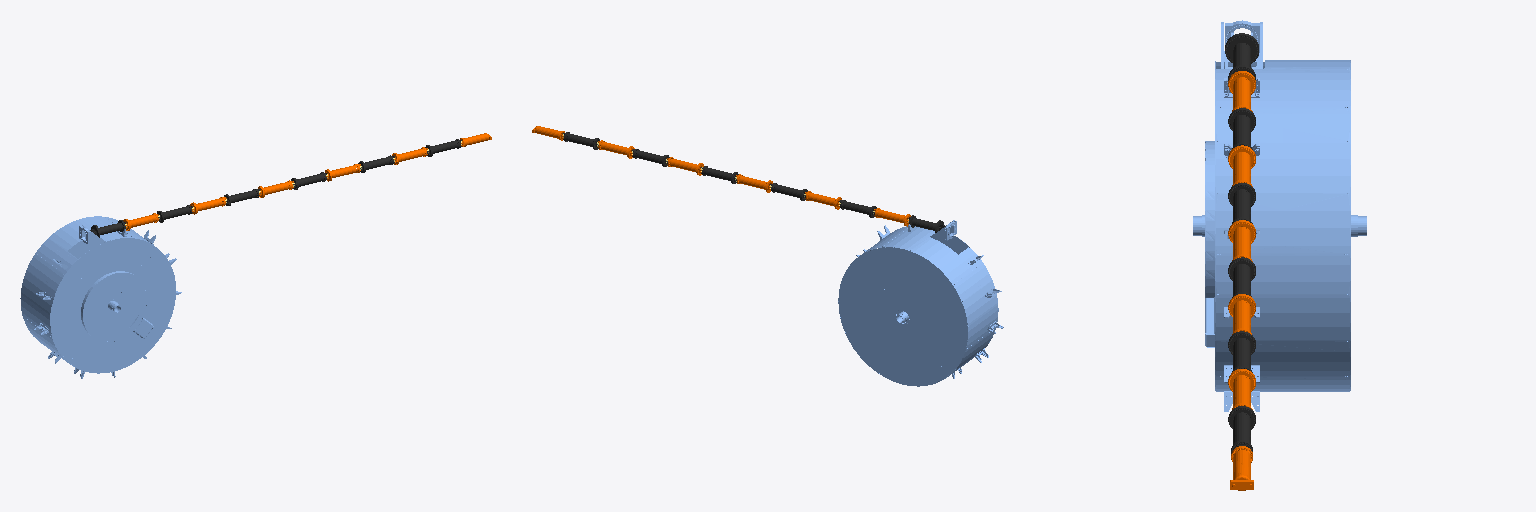
--- Render facts (derived) ---
Views: 3 orthographic renders of the robot side by side, from view 1: azimuth 30°, elevation 25°; view 2: azimuth 150°, elevation 25°; view 3: azimuth 270°, elevation 25°.
Model model_ccdhrm with 26 links and 25 joints (24 revolute, 1 fixed), rooted at base_link, posed every joint at zero.
Visible links, largest first — view 1: link_rot; view 2: link_rot; view 3: link_rot, link_1, link_21, link_23, link_7, link_17, link_3, link_9, link_5, link_11, link_19, link_15 (+1 smaller).
Link boxes in pixels (left/top/right/bottom): link_rot: left=20, top=216, right=181, bottom=378; link_rot: left=838, top=220, right=1003, bottom=386; link_rot: left=1193, top=20, right=1366, bottom=411; link_1: left=1225, top=33, right=1258, bottom=80; link_21: left=1228, top=406, right=1255, bottom=453; link_23: left=1230, top=446, right=1253, bottom=490; link_7: left=1228, top=145, right=1255, bottom=186; link_17: left=1228, top=331, right=1255, bottom=372; link_3: left=1228, top=71, right=1255, bottom=111; link_9: left=1228, top=183, right=1255, bottom=223; link_5: left=1228, top=108, right=1255, bottom=149; link_11: left=1228, top=220, right=1255, bottom=261; link_19: left=1228, top=369, right=1255, bottom=409; link_15: left=1228, top=294, right=1255, bottom=334.
Bounding box of the posed robot: 2.69 × 0.392 × 0.871 m (x, y, z).
Meshes: 6 distinct files referenced, 24 mesh visuals loaded (5 binary STL); not drawn: 1 (reference not matched to a file when rendering).

robot.urdf — model_ccdhrm:
<?xml version="1.0" encoding="utf-8"?>
<!-- This URDF was automatically created by SolidWorks to URDF Exporter! Originally created by Stephen Brawner ([email redacted]) 
     Commit Version: 1.5.1-0-g916b5db  Build Version: 1.5.7152.31018
     For more information, please see http://wiki.ros.org/sw_urdf_exporter -->
<robot
  name="model_ccdhrm">
  <link
    name="base_link">
    <inertial>
      <origin
        xyz="8.0962E-13 -0.017801 0.22145"
        rpy="0 0 0" />
      <mass
        value="2.29" />
      <inertia
        ixx="0.028299"
        ixy="-1.5621E-08"
        ixz="1.5037E-16"
        iyy="0.040957"
        iyz="4.96E-08"
        izz="0.042838" />
    </inertial>
    <visual>
      <origin
        xyz="0 0 0"
        rpy="0 0 0" />
      <geometry>
        <mesh
          filename="package://model_ccdhrm/meshes/base_link.STL" />
      </geometry>
      <material
        name="">
        <color
          rgba="1 0.47059 0 1" />
      </material>
    </visual>
    <collision>
      <origin
        xyz="0 0 0"
        rpy="0 0 0" />
      <geometry>
        <mesh
          filename="package://model_ccdhrm/meshes/base_link.STL" />
      </geometry>
    </collision>
  </link>
  <link
    name="link_rot">
    <inertial>
      <origin
        xyz="-0.011052 -0.02335 0.04928"
        rpy="0 0 0" />
      <mass
        value="1.9255" />
      <inertia
        ixx="0.023549"
        ixy="5.414E-05"
        ixz="-0.0077205"
        iyy="0.035682"
        iyz="-1.5799E-05"
        izz="0.023272" />
    </inertial>
    <visual>
      <origin
        xyz="0 0 0"
        rpy="0 0 0" />
      <geometry>
        <mesh
          filename="package://model_ccdhrm/meshes/link_rot.STL" />
      </geometry>
      <material
        name="">
        <color
          rgba="0.62745 0.78431 1 1" />
      </material>
    </visual>
    <collision>
      <origin
        xyz="0 0 0"
        rpy="0 0 0" />
      <geometry>
        <mesh
          filename="package://model_ccdhrm/meshes/link_rot.STL" />
      </geometry>
    </collision>
  </link>
  <joint
    name="joint_rot"
    type="revolute">>
    <origin
      xyz="0 0 0.557"
      rpy="0 0 0" />
    <parent
      link="base_link" />
    <child
      link="link_rot" />
    <axis
      xyz="0 1 0" />
    <limit
      lower="-3.14"
      upper="3.14"
      effort="0"
      velocity="0" />
  </joint>
  <link
    name="link_1">
    <inertial>
      <origin
        xyz="0.089676 5.9827E-10 1.3504E-09"
        rpy="0 0 0" />
      <mass
        value="0.10982" />
      <inertia
        ixx="6.1388E-05"
        ixy="1.8879E-12"
        ixz="4.5825E-12"
        iyy="0.00010032"
        iyz="5.6078E-13"
        izz="0.00010134" />
    </inertial>
    <visual>
      <origin
        xyz="0 0 0"
        rpy="0 0 0" />
      <geometry>
        <mesh
          filename="package://model_ccdhrm/meshes/link_1.STL" />
      </geometry>
      <material
        name="">
        <color
          rgba="0.22353 0.22353 0.22353 1" />
      </material>
    </visual>
    <collision>
      <origin
        xyz="0 0 0"
        rpy="0 0 0" />
      <geometry>
        <mesh
          filename="package://model_ccdhrm/meshes/link_1.STL" />
      </geometry>
    </collision>
  </link>
  <joint
    name="joint_1"
    type="revolute">
    <origin
      xyz="-0.098751 -0.092 0.40808"
      rpy="0 0 0" />
    <parent
      link="link_rot" />
    <child
      link="link_1" />
    <axis
      xyz="0 1 0" />
    <limit
      lower="-0.34888"
      upper="0"
      effort="0"
      velocity="0" />
  </joint>
  <link
    name="link_2">
    <inertial>
      <origin
        xyz="1.0039E-10 -7.2677E-10 -2.1014E-09"
        rpy="0 0 0" />
      <mass
        value="0.005503" />
      <inertia
        ixx="6.7326E-07"
        ixy="2.2131E-15"
        ixz="1.6207E-14"
        iyy="4.3734E-07"
        iyz="1.9124E-14"
        izz="4.3734E-07" />
    </inertial>
    <visual>
      <origin
        xyz="0 0 0"
        rpy="0 0 0" />
      <geometry>
        <mesh
          filename="package://model_ccdhrm/meshes/link_2.STL" />
      </geometry>
      <material
        name="">
        <color
          rgba="1 0.94118 0.58824 1" />
      </material>
    </visual>
    <collision>
      <origin
        xyz="0 0 0"
        rpy="0 0 0" />
      <geometry>
        <mesh
          filename="package://model_ccdhrm/meshes/link_2.STL" />
      </geometry>
    </collision>
  </link>
  <joint
    name="joint_2"
    type="revolute">
    <origin
      xyz="0.2 0 0"
      rpy="0 0 0" />
    <parent
      link="link_1" />
    <child
      link="link_2" />
    <axis
      xyz="0 0 1" />
    <limit
      lower="-0.34888"
      upper="0.34888"
      effort="0"
      velocity="0" />
  </joint>
  <link
    name="link_3">
    <inertial>
      <origin
        xyz="0.089051 8.8273E-10 2.0241E-09"
        rpy="0 0 0" />
      <mass
        value="0.079545" />
      <inertia
        ixx="3.2762E-05"
        ixy="2.234E-12"
        ixz="5.4631E-12"
        iyy="0.00010501"
        iyz="-2.5542E-12"
        izz="0.00010502" />
    </inertial>
    <visual>
      <origin
        xyz="0 0 0"
        rpy="0 0 0" />
      <geometry>
        <mesh
          filename="package://model_ccdhrm/meshes/link_3.STL" />
      </geometry>
      <material
        name="">
        <color
          rgba="1 0.47059 0 1" />
      </material>
    </visual>
    <collision>
      <origin
        xyz="0 0 0"
        rpy="0 0 0" />
      <geometry>
        <mesh
          filename="package://model_ccdhrm/meshes/link_3.STL" />
      </geometry>
    </collision>
  </link>
  <joint
    name="joint_3"
    type="revolute">
    <origin
      xyz="0 0 0"
      rpy="0 0 0" />
    <parent
      link="link_2" />
    <child
      link="link_3" />
    <axis
      xyz="0 1 0" />
    <limit
      lower="-0.34888"
      upper="0.34888"
      effort="0"
      velocity="0" />
  </joint>
  <link
    name="link_4">
    <inertial>
      <origin
        xyz="1.3857E-09 -1.5789E-09 -2.4449E-09"
        rpy="0 0 0" />
      <mass
        value="0.0026045" />
      <inertia
        ixx="2.5058E-07"
        ixy="2.7533E-15"
        ixz="-8.7367E-15"
        iyy="1.4882E-07"
        iyz="2.039E-14"
        izz="1.4882E-07" />
    </inertial>
    <visual>
      <origin
        xyz="0 0 0"
        rpy="0 0 0" />
      <geometry>
        <mesh
          filename="package://model_ccdhrm/meshes/link_2.STL" />
      </geometry>
      <material
        name="">
        <color
          rgba="1 0.94118 0.58824 1" />
      </material>
    </visual>
    <collision>
      <origin
        xyz="0 0 0"
        rpy="0 0 0" />
      <geometry>
        <mesh
          filename="package://model_ccdhrm/meshes/link_2.STL" />
      </geometry>
    </collision>
  </link>
  <joint
    name="joint_4"
    type="revolute">
    <origin
      xyz="0.2 0 0"
      rpy="0 0 0" />
    <parent
      link="link_3" />
    <child
      link="link_4" />
    <axis
      xyz="0 0 1" />
    <limit
      lower="-0.34888"
      upper="0.34888"
      effort="0"
      velocity="0" />
  </joint>
  <link
    name="link_5">
    <inertial>
      <origin
        xyz="0.1 1.0156E-09 2.3233E-09"
        rpy="0 0 0" />
      <mass
        value="0.069233" />
      <inertia
        ixx="2.4469E-05"
        ixy="2.237E-12"
        ixz="5.4636E-12"
        iyy="0.00010084"
        iyz="-2.8209E-12"
        izz="0.00010084" />
    </inertial>
    <visual>
      <origin
        xyz="0 0 0"
        rpy="0 0 0" />
      <geometry>
        <mesh
          filename="package://model_ccdhrm/meshes/link_3.STL" />
      </geometry>
      <material
        name="">
        <color
          rgba="0.22353 0.22353 0.22353 1" />
      </material>
    </visual>
    <collision>
      <origin
        xyz="0 0 0"
        rpy="0 0 0" />
      <geometry>
        <mesh
          filename="package://model_ccdhrm/meshes/link_3.STL" />
      </geometry>
    </collision>
  </link>
  <joint
    name="joint_5"
    type="revolute">
    <origin
      xyz="0 0 0"
      rpy="0 0 0" />
    <parent
      link="link_4" />
    <child
      link="link_5" />
    <axis
      xyz="0 1 0" />
    <limit
      lower="-0.34888"
      upper="0.34888"
      effort="0"
      velocity="0" />
  </joint>
  <link
    name="link_6">
    <inertial>
      <origin
        xyz="1.3857E-09 -1.5789E-09 -2.4449E-09"
        rpy="0 0 0" />
      <mass
        value="0.0026045" />
      <inertia
        ixx="2.5058E-07"
        ixy="2.7533E-15"
        ixz="-8.7367E-15"
        iyy="1.4882E-07"
        iyz="2.039E-14"
        izz="1.4882E-07" />
    </inertial>
    <visual>
      <origin
        xyz="0 0 0"
        rpy="0 0 0" />
      <geometry>
        <mesh
          filename="package://model_ccdhrm/meshes/link_2.STL" />
      </geometry>
      <material
        name="">
        <color
          rgba="1 0.94118 0.58824 1" />
      </material>
    </visual>
    <collision>
      <origin
        xyz="0 0 0"
        rpy="0 0 0" />
      <geometry>
        <mesh
          filename="package://model_ccdhrm/meshes/link_2.STL" />
      </geometry>
    </collision>
  </link>
  <joint
    name="joint_6"
    type="revolute">
    <origin
      xyz="0.2 0 0"
      rpy="0 0 0" /> 
    <!--rpy="0.0873 0 0"  -->
    <parent
      link="link_5" />
    <child
      link="link_6" />
    <axis
      xyz="0 0 1" />
    <limit
      lower="-0.34888"
      upper="0.34888"
      effort="0"
      velocity="0" />
  </joint>
  <link
    name="link_7">
    <inertial>
      <origin
        xyz="0.1 -3.903E-10 -2.7898E-09"
        rpy="0 0 0" />
      <mass
        value="0.069233" />
      <inertia
        ixx="2.4469E-05"
        ixy="6.6461E-13"
        ixz="5.7277E-12"
        iyy="0.00010084"
        iyz="-4.3415E-13"
        izz="0.00010084" />
    </inertial>
    <visual>
      <origin
        xyz="0 0 0"
        rpy="0 0 0" />
      <geometry>
        <mesh
          filename="package://model_ccdhrm/meshes/link_3.STL" />
      </geometry>
      <material
        name="">
        <color
          rgba="1 0.47059 0 1" />
      </material>
    </visual>
    <collision>
      <origin
        xyz="0 0 0"
        rpy="0 0 0" />
      <geometry>
        <mesh
          filename="package://model_ccdhrm/meshes/link_3.STL" />
      </geometry>
    </collision>
  </link>
  <joint
    name="joint_7"
    type="revolute">
    <origin
      xyz="0 0 0"
      rpy="0 0 0" />
    <parent
      link="link_6" />
    <child
      link="link_7" />
    <axis
      xyz="0 1 0" />
    <limit
      lower="-0.34888"
      upper="0.34888"
      effort="0"
      velocity="0" />
  </joint>
  <link
    name="link_8">
    <inertial>
      <origin
        xyz="1.3857E-09 -1.5789E-09 -2.4449E-09"
        rpy="0 0 0" />
      <mass
        value="0.0026045" />
      <inertia
        ixx="2.5058E-07"
        ixy="2.7533E-15"
        ixz="-8.7367E-15"
        iyy="1.4882E-07"
        iyz="2.039E-14"
        izz="1.4882E-07" />
    </inertial>
    <visual>
      <origin
        xyz="0 0 0"
        rpy="0 0 0" />
      <geometry>
        <mesh
          filename="package://model_ccdhrm/meshes/link_2.STL" />
      </geometry>
      <material
        name="">
        <color
          rgba="1 0.94118 0.58824 1" />
      </material>
    </visual>
    <collision>
      <origin
        xyz="0 0 0"
        rpy="0 0 0" />
      <geometry>
        <mesh
          filename="package://model_ccdhrm/meshes/link_2.STL" />
      </geometry>
    </collision>
  </link>
  <joint
    name="joint_8"
    type="revolute">
    <origin
      xyz="0.2 0 0"
      rpy="0 0 0" />
    <parent
      link="link_7" />
    <child
      link="link_8" />
    <axis
      xyz="0 0 1" />
    <limit
      lower="-0.34888"
      upper="0.34888"
      effort="0"
      velocity="0" />
  </joint>
  <link
    name="link_9">
    <inertial>
      <origin
        xyz="0.1 2.7898E-09 3.903E-10"
        rpy="0 0 0" />
      <mass
        value="0.069233" />
      <inertia
        ixx="2.4469E-05"
        ixy="5.7277E-12"
        ixz="6.6461E-13"
        iyy="0.00010084"
        iyz="-4.3415E-13"
        izz="0.00010084" />
    </inertial>
    <visual>
      <origin
        xyz="0 0 0"
        rpy="0 0 0" />
      <geometry>
        <mesh
          filename="package://model_ccdhrm/meshes/link_3.STL" />
      </geometry>
      <material
        name="">
        <color
          rgba="0.22353 0.22353 0.22353 1" />
      </material>
    </visual>
    <collision>
      <origin
        xyz="0 0 0"
        rpy="0 0 0" />
      <geometry>
        <mesh
          filename="package://model_ccdhrm/meshes/link_3.STL" />
      </geometry>
    </collision>
  </link>
  <joint
    name="joint_9"
    type="revolute">
    <origin
      xyz="0 0 0"
      rpy="0 0 0" />
    <parent
      link="link_8" />
    <child
      link="link_9" />
    <axis
      xyz="0 1 0" />
    <limit
      lower="-0.34888"
      upper="0.34888"
      effort="0"
      velocity="0" />
  </joint>
  <link
    name="link_10">
    <inertial>
      <origin
        xyz="1.38565880991592E-09 -1.57885902962729E-09 -2.444909830146E-09"
        rpy="0 0 0" />
      <mass
        value="0.00260445255628654" />
      <inertia
        ixx="2.50577132320726E-07"
        ixy="2.75334733975133E-15"
        ixz="-8.73665794274116E-15"
        iyy="1.48817137958054E-07"
        iyz="2.03900857031692E-14"
        izz="1.48817196674779E-07" />
    </inertial>
    <visual>
      <origin
        xyz="0 0 0"
        rpy="0 0 0" />
      <geometry>
        <mesh
          filename="package://model_ccdhrm/meshes/link_2.STL" />
      </geometry>
      <material
        name="">
        <color
          rgba="1 0.941176470588235 0.588235294117647 1" />
      </material>
    </visual>
    <collision>
      <origin
        xyz="0 0 0"
        rpy="0 0 0" />
      <geometry>
        <mesh
          filename="package://model_ccdhrm/meshes/link_2.STL" />
      </geometry>
    </collision>
  </link>
  <joint
    name="joint_10"
    type="revolute">
    <origin
      xyz="0.2 0 0"
      rpy="0 0 0" />
    <parent
      link="link_9" />
    <child
      link="link_10" />
    <axis
      xyz="0 0 1" />
    <limit
      lower="-0.34888"
      upper="0.34888"
      effort="0"
      velocity="0" />
  </joint>
  <link
    name="link_11">
    <inertial>
      <origin
        xyz="0.1 -3.9031E-10 -2.7898E-09"
        rpy="0 0 0" />
      <mass
        value="0.069233" />
      <inertia
        ixx="2.4469E-05"
        ixy="6.6461E-13"
        ixz="5.7277E-12"
        iyy="0.00010084"
        iyz="-4.3415E-13"
        izz="0.00010084" />
    </inertial>
    <visual>
      <origin
        xyz="0 0 0"
        rpy="0 0 0" />
      <geometry>
        <mesh
          filename="package://model_ccdhrm/meshes/link_3.STL" />
      </geometry>
      <material
        name="">
        <color
          rgba="1 0.47059 0 1" />
      </material>
    </visual>
    <collision>
      <origin
        xyz="0 0 0"
        rpy="0 0 0" />
      <geometry>
        <mesh
          filename="package://model_ccdhrm/meshes/link_3.STL" />
      </geometry>
    </collision>
  </link>
  <joint
    name="joint_11"
    type="revolute">
    <origin
      xyz="0 0 0"
      rpy="0 0 0" />
    <parent
      link="link_10" />
    <child
      link="link_11" />
    <axis
      xyz="0 1 0" />
    <limit
      lower="-0.34888"
      upper="0.34888"
      effort="0"
      velocity="0" />
  </joint>
  <link
    name="link_12">
    <inertial>
      <origin
        xyz="1.38565869889362E-09 -2.44490996892388E-09 1.57885893248277E-09"
        rpy="0 0 0" />
      <mass
        value="0.00260445255628651" />
      <inertia
        ixx="2.50577132320724E-07"
        ixy="-8.73665729331644E-15"
        ixz="-2.75334791265467E-15"
        iyy="1.48817196674777E-07"
        iyz="-2.03900855565574E-14"
        izz="1.48817137958052E-07" />
    </inertial>
    <visual>
      <origin
        xyz="0 0 0"
        rpy="0 0 0" />
      <geometry>
        <mesh
          filename="package://model_ccdhrm/meshes/link_2.STL" />
      </geometry>
      <material
        name="">
        <color
          rgba="1 0.941176470588235 0.588235294117647 1" />
      </material>
    </visual>
    <collision>
      <origin
        xyz="0 0 0"
        rpy="0 0 0" />
      <geometry>
        <mesh
          filename="package://model_ccdhrm/meshes/link_2.STL" />
      </geometry>
    </collision>
  </link>
  <joint
    name="joint_12"
    type="revolute">
    <origin
      xyz="0.2 0 0"
      rpy="0 0 0" />
    <parent
      link="link_11" />
    <child
      link="link_12" />
    <axis
      xyz="0 0 1" />
    <limit
      lower="-0.34888"
      upper="0.34888"
      effort="0"
      velocity="0" />
  </joint>
  <link
    name="link_13">
    <inertial>
      <origin
        xyz="0.100000025460932 3.90335638811301E-10 2.78980316625876E-09"
        rpy="0 0 0" />
      <mass
        value="0.0692327810195443" />
      <inertia
        ixx="2.44689678797687E-05"
        ixy="-6.64611536281742E-13"
        ixz="-5.7276859994471E-12"
        iyy="0.000100841303543619"
        iyz="-4.34148708629212E-13"
        izz="0.000100841296377003" />
    </inertial>
    <visual>
      <origin
        xyz="0 0 0"
        rpy="0 0 0" />
      <geometry>
        <mesh
          filename="package://model_ccdhrm/meshes/link_3.STL" />
      </geometry>
      <material
        name="">
        <color
          rgba="0.223529411764706 0.223529411764706 0.223529411764706 1" />
      </material>
    </visual>
    <collision>
      <origin
        xyz="0 0 0"
        rpy="0 0 0" />
      <geometry>
        <mesh
          filename="package://model_ccdhrm/meshes/link_3.STL" />
      </geometry>
    </collision>
  </link>
  <joint
    name="joint_13"
    type="revolute">
    <origin
      xyz="0 0 0"
      rpy="0 0 0" />
    <parent
      link="link_12" />
    <child
      link="link_13" />
    <axis
      xyz="0 1 0" />
    <limit
      lower="-0.34888"
      upper="0.34888"
      effort="0"
      velocity="0" />
  </joint>
  <link
    name="link_14">
    <inertial>
      <origin
        xyz="1.38565892093823E-09 -1.57885905738286E-09 -2.444909830146E-09"
        rpy="0 0 0" />
      <mass
        value="0.00260445255628647" />
      <inertia
        ixx="2.5057713232072E-07"
        ixy="2.7533475192487E-15"
        ixz="-8.73665793396741E-15"
        iyy="1.48817137958049E-07"
        iyz="2.0390085719748E-14"
        izz="1.48817196674774E-07" />
    </inertial>
    <visual>
      <origin
        xyz="0 0 0"
        rpy="0 0 0" />
      <geometry>
        <mesh
          filename="package://model_ccdhrm/meshes/link_2.STL" />
      </geometry>
      <material
        name="">
        <color
          rgba="1 0.941176470588235 0.588235294117647 1" />
      </material>
    </visual>
    <collision>
      <origin
        xyz="0 0 0"
        rpy="0 0 0" />
      <geometry>
        <mesh
          filename="package://model_ccdhrm/meshes/link_2.STL" />
      </geometry>
    </collision>
  </link>
  <joint
    name="joint_14"
    type="revolute">
    <origin
      xyz="0.2 0 0.002"
      rpy="0 0 0" />
    <parent
      link="link_13" />
    <child
      link="link_14" />
    <axis
      xyz="0 0 1" />
    <limit
      lower="-0.34888"
      upper="0.34888"
      effort="0"
      velocity="0" />
  </joint>
  <link
    name="link_15">
    <inertial>
      <origin
        xyz="0.0999999745390672 -2.78979797596612E-09 -3.90318888321417E-10"
        rpy="0 0 0" />
      <mass
        value="0.0692327810195458" />
      <inertia
        ixx="2.44689678797691E-05"
        ixy="-5.72768670878389E-12"
        ixz="-6.6461138574225E-13"
        iyy="0.000100841296377004"
        iyz="-4.3414887695949E-13"
        izz="0.000100841303543619" />
    </inertial>
    <visual>
      <origin
        xyz="0 0 0"
        rpy="0 0 0" />
      <geometry>
        <mesh
          filename="package://model_ccdhrm/meshes/link_3.STL" />
      </geometry>
      <material
        name="">
        <color
          rgba="1 0.470588235294118 0 1" />
      </material>
    </visual>
    <collision>
      <origin
        xyz="0 0 0"
        rpy="0 0 0" />
      <geometry>
        <mesh
          filename="package://model_ccdhrm/meshes/link_3.STL" />
      </geometry>
    </collision>
  </link>
  <joint
    name="joint_15"
    type="revolute">
    <origin
      xyz="0 0 0"
      rpy="0 0 0" />
    <parent
      link="link_14" />
    <child
      link="link_15" />
    <axis
      xyz="0 1 0" />
    <limit
      lower="-0.34888"
      upper="0.34888"
      effort="0"
      velocity="0" />
  </joint>
  <link
    name="link_16">
    <inertial>
      <origin
        xyz="1.38565914298283E-09 -1.57885900187171E-09 -2.44491005219061E-09"
        rpy="0 0 0" />
      <mass
        value="0.00260445255628647" />
      <inertia
        ixx="2.50577132320719E-07"
        ixy="2.75334725921447E-15"
        ixz="-8.73665788658928E-15"
        iyy="1.48817137958049E-07"
        iyz="2.03900857517836E-14"
        izz="1.48817196674774E-07" />
    </inertial>
    <visual>
      <origin
        xyz="0 0 0"
        rpy="0 0 0" />
      <geometry>
        <mesh
          filename="package://model_ccdhrm/meshes/link_2.STL" />
      </geometry>
      <material
        name="">
        <color
          rgba="1 0.941176470588235 0.588235294117647 1" />
      </material>
    </visual>
    <collision>
      <origin
        xyz="0 0 0"
        rpy="0 0 0" />
      <geometry>
        <mesh
          filename="package://model_ccdhrm/meshes/link_2.STL" />
      </geometry>
    </collision>
  </link>
  <joint
    name="joint_16"
    type="revolute">
    <origin
      xyz="0.2 0 0"
      rpy="0 0 0" />
    <parent
      link="link_15" />
    <child
      link="link_16" />
    <axis
      xyz="0 0 1" />
    <limit
      lower="-0.34888"
      upper="0.34888"
      effort="0"
      velocity="0" />
  </joint>
  <link
    name="link_17">
    <inertial>
      <origin
        xyz="0.10000002546093 -3.9028158482779E-10 -2.78978085077597E-09"
        rpy="0 0 0" />
      <mass
        value="0.0692327810195466" />
      <inertia
        ixx="2.44689678797693E-05"
        ixy="6.64612033832343E-13"
        ixz="5.72768611867044E-12"
        iyy="0.000100841303543621"
        iyz="-4.34148971213868E-13"
        izz="0.000100841296377005" />
    </inertial>
    <visual>
      <origin
        xyz="0 0 0"
        rpy="0 0 0" />
      <geometry>
        <mesh
          filename="package://model_ccdhrm/meshes/link_3.STL" />
      </geometry>
      <material
        name="">
        <color
          rgba="0.223529411764706 0.223529411764706 0.223529411764706 1" />
      </material>
    </visual>
    <collision>
      <origin
        xyz="0 0 0"
        rpy="0 0 0" />
      <geometry>
        <mesh
          filename="package://model_ccdhrm/meshes/link_3.STL" />
      </geometry>
    </collision>
  </link>
  <joint
    name="joint_17"
    type="revolute">
    <origin
      xyz="0 0 0"
      rpy="0 0 0" />
    <parent
      link="link_16" />
    <child
      link="link_17" />
    <axis
      xyz="0 1 0" />
    <limit
      lower="-0.34888"
      upper="0.34888"
      effort="0"
      velocity="0" />
  </joint>
  <link
    name="link_18">
    <inertial>
      <origin
        xyz="1.38565869889362E-09 -1.57885902962729E-09 -2.44491005219061E-09"
        rpy="0 0 0" />
      <mass
        value="0.00260445255628649" />
      <inertia
        ixx="2.5057713232072E-07"
        ixy="2.75334748069667E-15"
        ixz="-8.73665791710326E-15"
        iyy="1.48817137958049E-07"
        iyz="2.03900857644585E-14"
        izz="1.48817196674774E-07" />
    </inertial>
    <visual>
      <origin
        xyz="0 0 0"
        rpy="0 0 0" />
      <geometry>
        <mesh
          filename="package://model_ccdhrm/meshes/link_2.STL" />
      </geometry>
      <material
        name="">
        <color
          rgba="1 0.941176470588235 0.588235294117647 1" />
      </material>
    </visual>
    <collision>
      <origin
        xyz="0 0 0"
        rpy="0 0 0" />
      <geometry>
        <mesh
          filename="package://model_ccdhrm/meshes/link_2.STL" />
      </geometry>
    </collision>
  </link>
  <joint
    name="joint_18"
    type="revolute">
    <origin
      xyz="0.2 0 0"
      rpy="0 0 0" />
    <parent
      link="link_17" />
    <child
      link="link_18" />
    <axis
      xyz="0 0 1" />
    <limit
      lower="-0.34888"
      upper="0.34888"
      effort="0"
      velocity="0" />
  </joint>
  <link
    name="link_19">
    <inertial>
      <origin
        xyz="0.100000025460936 -3.90270982197904E-10 -2.78978717904721E-09"
        rpy="0 0 0" />
      <mass
        value="0.0692327810195443" />
      <inertia
        ixx="2.44689678797689E-05"
        ixy="6.64611819333894E-13"
        ixz="5.72768607730279E-12"
        iyy="0.000100841303543618"
        iyz="-4.34148864879815E-13"
        izz="0.000100841296377003" />
    </inertial>
    <visual>
      <origin
        xyz="0 0 0"
        rpy="0 0 0" />
      <geometry>
        <mesh
          filename="package://model_ccdhrm/meshes/link_3.STL" />
      </geometry>
      <material
        name="">
        <color
          rgba="1 0.470588235294118 0 1" />
      </material>
    </visual>
    <collision>
      <origin
        xyz="0 0 0"
        rpy="0 0 0" />
      <geometry>
        <mesh
          filename="package://model_ccdhrm/meshes/link_3.STL" />
      </geometry>
    </collision>
  </link>
  <joint
    name="joint_19"
    type="revolute">
    <origin
      xyz="0 0 0"
      rpy="0 0 0" />
    <parent
      link="link_18" />
    <child
      link="link_19" />
    <axis
      xyz="0 1 0" />
    <limit
      lower="-0.34888"
      upper="0.34888"
      effort="0"
      velocity="0" />
  </joint>
  <link
    name="link_20">
    <inertial>
      <origin
        xyz="1.38565825480441E-09 -1.5788590157495E-09 -2.44490994116831E-09"
        rpy="0 0 0" />
      <mass
        value="0.00260445255628647" />
      <inertia
        ixx="2.50577132320719E-07"
        ixy="2.75334744161058E-15"
        ixz="-8.73665791757591E-15"
        iyy="1.48817137958049E-07"
        iyz="2.03900857826775E-14"
        izz="1.48817196674774E-07" />
    </inertial>
    <visual>
      <origin
        xyz="0 0 0"
        rpy="0 0 0" />
      <geometry>
        <mesh
          filename="package://model_ccdhrm/meshes/link_2.STL" />
      </geometry>
      <material
        name="">
        <color
          rgba="1 0.941176470588235 0.588235294117647 1" />
      </material>
    </visual>
    <collision>
      <origin
        xyz="0 0 0"
        rpy="0 0 0" />
      <geometry>
        <mesh
          filename="package://model_ccdhrm/meshes/link_2.STL" />
      </geometry>
    </collision>
  </link>
  <joint
    name="joint_20"
    type="revolute">
    <origin
      xyz="0.2 0 0"
      rpy="0 0 0" />
    <parent
      link="link_19" />
    <child
      link="link_20" />
    <axis
      xyz="0 0 1" />
    <limit
      lower="-0.34888"
      upper="0.34888"
      effort="0"
      velocity="0" />
  </joint>
  <link
    name="link_21">
    <inertial>
      <origin
        xyz="0.0999999745390645 -2.78983004753375E-09 -3.90326548860287E-10"
        rpy="0 0 0" />
      <mass
        value="0.069232781019545" />
      <inertia
        ixx="2.44689678797689E-05"
        ixy="-5.72768659780425E-12"
        ixz="-6.64611413054657E-13"
        iyy="0.000100841296377004"
        iyz="-4.34148823840296E-13"
        izz="0.000100841303543619" />
    </inertial>
    <visual>
      <origin
        xyz="0 0 0"
        rpy="0 0 0" />
      <geometry>
        <mesh
          filename="package://model_ccdhrm/meshes/link_3.STL" />
      </geometry>
      <material
        name="">
        <color
          rgba="0.223529411764706 0.223529411764706 0.223529411764706 1" />
      </material>
    </visual>
    <collision>
      <origin
        xyz="0 0 0"
        rpy="0 0 0" />
      <geometry>
        <mesh
          filename="package://model_ccdhrm/meshes/link_3.STL" />
      </geometry>
    </collision>
  </link>
  <joint
    name="joint_21"
    type="revolute">
    <origin
      xyz="0 0 0"
      rpy="0 0 0" />
    <parent
      link="link_20" />
    <child
      link="link_21" />
    <axis
      xyz="0 1 0" />
    <limit
      lower="-0.34888"
      upper="0.34888"
      effort="0"
      velocity="0" />
  </joint>
  <link
    name="link_22">
    <inertial>
      <origin
        xyz="1.38565825480441E-09 -1.57885904350508E-09 -2.44491005219061E-09"
        rpy="0 0 0" />
      <mass
        value="0.00260445255628646" />
      <inertia
        ixx="2.50577132320719E-07"
        ixy="2.75334744105818E-15"
        ixz="-8.73665788668311E-15"
        iyy="1.48817137958049E-07"
        iyz="2.03900857671802E-14"
        izz="1.48817196674774E-07" />
    </inertial>
    <visual>
      <origin
        xyz="0 0 0"
        rpy="0 0 0" />
      <geometry>
        <mesh
          filename="package://model_ccdhrm/meshes/link_2.STL" />
      </geometry>
      <material
        name="">
        <color
          rgba="1 0.941176470588235 0.588235294117647 1" />
      </material>
    </visual>
    <collision>
      <origin
        xyz="0 0 0"
        rpy="0 0 0" />
      <geometry>
        <mesh
          filename="package://model_ccdhrm/meshes/link_2.STL" />
      </geometry>
    </collision>
  </link>
  <joint
    name="joint_22"
    type="revolute">
    <origin
      xyz="0.2 0 0"
      rpy="0 0 0" />
    <parent
      link="link_21" />
    <child
      link="link_22" />
    <axis
      xyz="0 0 1" />
    <limit
      lower="-0.34888"
      upper="0.34888"
      effort="0"
      velocity="0" />
  </joint>
  <link
    name="link_23">
    <inertial>
      <origin
        xyz="0.0858739302014619 4.02340660787814E-12 1.529776305631E-12"
        rpy="0 0 0" />
      <mass
        value="0.0602639365758659" />
      <inertia
        ixx="2.05724897300915E-05"
        ixy="1.10890114294321E-14"
        ixz="4.26471630491588E-15"
        iyy="0.000212919430326202"
        iyz="-6.03526480847622E-13"
        izz="0.000215969763060927" />
    </inertial>
    <visual>
      <origin
        xyz="0 0 0"
        rpy="0 0 0" />
      <geometry>
        <mesh
          filename="package://model_ccdhrm/meshes/link_23.STL" />
      </geometry>
      <material
        name="">
        <color
          rgba="1 0.470588235294118 0 1" />
      </material>
    </visual>
    <collision>
      <origin
        xyz="0 0 0"
        rpy="0 0 0" />
      <geometry>
        <mesh
          filename="package://model_ccdhrm/meshes/link_23.STL" />
      </geometry>
    </collision>
  </link>
  <joint
    name="joint_23"
    type="revolute">
    <origin
      xyz="0 0 0"
      rpy="0 0 0" />
    <parent
      link="link_22" />
    <child
      link="link_23" />
    <axis
      xyz="0 1 0" />
    <limit
      lower="-0.34888"
      upper="0.34888"
      effort="0"
      velocity="0" />
  </joint>
  <joint
    name="joint_tip"
    type="fixed">
    <origin
      xyz="0.2 0 0"
      rpy="0 0 0" />
    <parent
      link="link_23" />
    <child
      link="link_tip" />
  </joint>
  <link
    name="link_tip">
  </link>
</robot>
